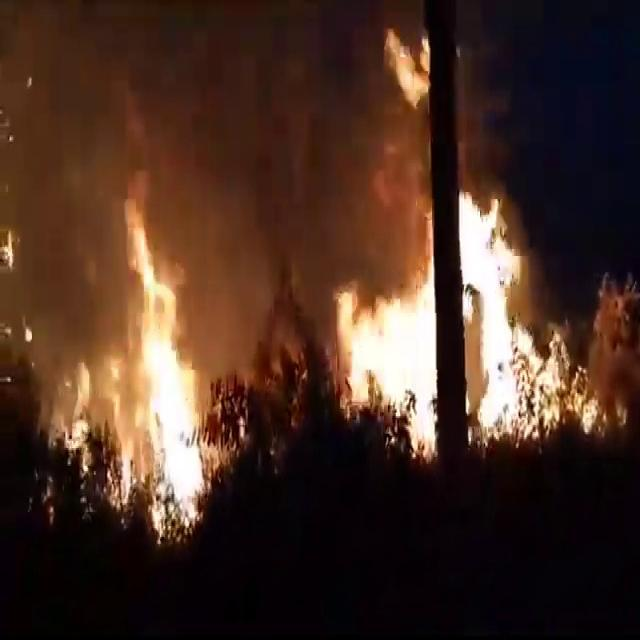Fire: (119, 192, 213, 535), (463, 183, 571, 444), (334, 210, 436, 444), (387, 27, 429, 102)
Smoke: (0, 0, 354, 347)
